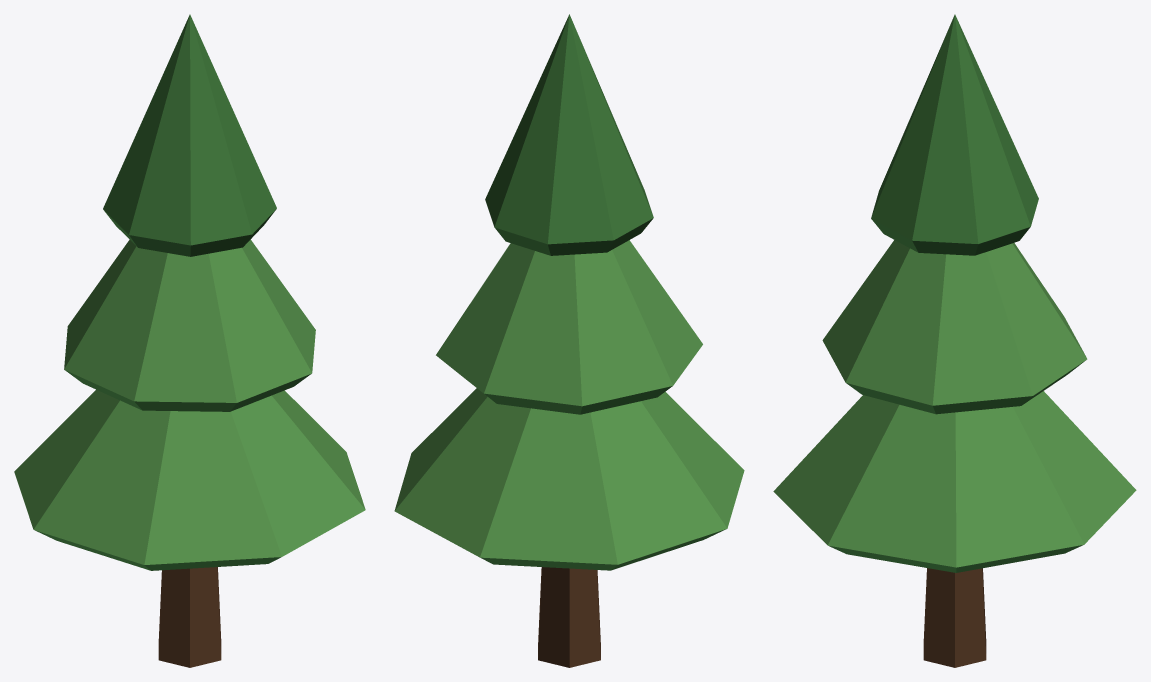
The model's file is tree_pineSmallA.glb.
The picture shows the model from 3 angles, left to right: view 1: azimuth 30°, elevation 25°; view 2: azimuth 150°, elevation 25°; view 3: azimuth 270°, elevation 25°; orthographic projection.
Visible parts, largest first — view 1: tree_pineSmallA; view 2: tree_pineSmallA; view 3: tree_pineSmallA.
Part boxes in pixels (bbox=[...]): tree_pineSmallA: bbox=[14, 14, 365, 667]; tree_pineSmallA: bbox=[394, 14, 744, 667]; tree_pineSmallA: bbox=[773, 14, 1136, 667].
Size of the model in its own units: 0.5 by 0.97 by 0.5.
1 material, 1 textured.
